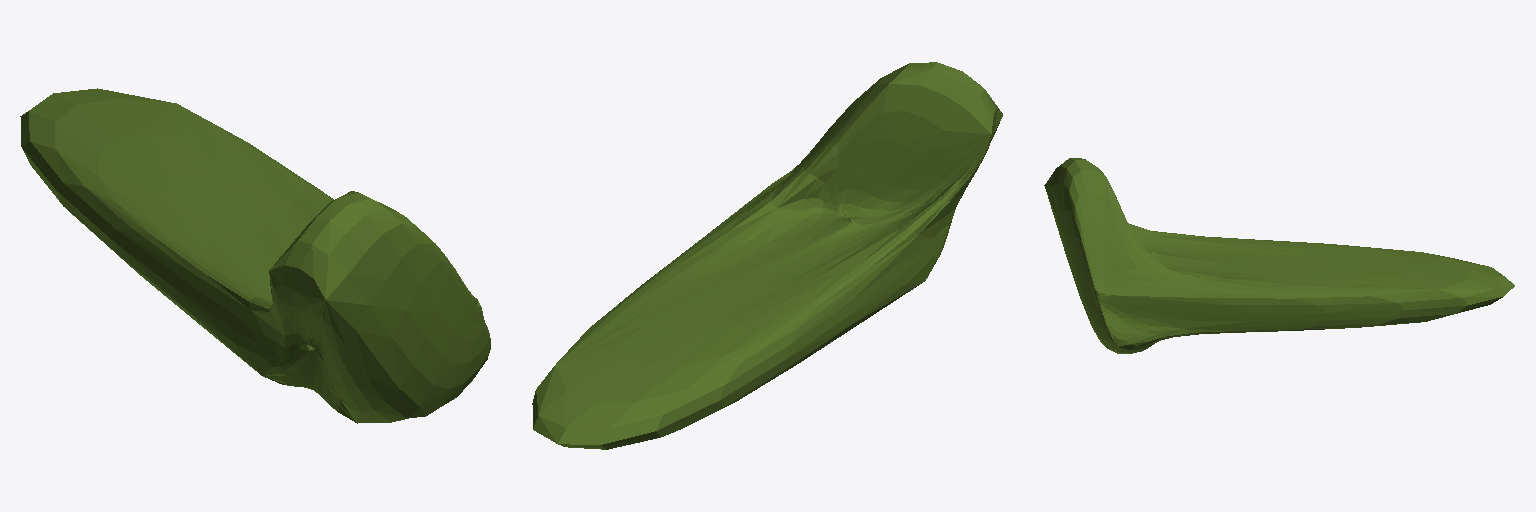
URDF robot description (blob142):

<robot name="blob142">
  <link name="random_obj_142">
    <contact>
      <lateral_friction value="1.0"/>
      <rolling_friction value="0.0"/>
      <inertia_scaling value="3.0"/>
      <contact_cfm value="0.0"/>
      <contact_erp value="1.0"/>
    </contact>
    <inertial>
      <origin rpy="0 0 0" xyz="0 0 0"/>
      <mass value="0.0717"/>
      <inertia ixx="1" ixy="0" ixz="0" iyy="1" iyz="0" izz="0"/>
    </inertial>
    <visual>
      <origin rpy="0 0 0" xyz="0 0 0"/>
      <geometry>
        <mesh filename="142.obj" scale="0.0085 0.0085 0.0085"/>
      </geometry>
      <material name="blockmat">
        <color rgba="0.38 0.48 0.21 1"/>
      </material>
    </visual>
    <collision>
      <origin rpy="0 0 0" xyz="0 0 0"/>
      <geometry>
        <mesh filename="142_coll.obj" scale="0.0085 0.0085 0.0085"/>
      </geometry>
    </collision>
  </link>
</robot>

--- What the picture shows (computed from the rendered views, not written in the file) ---
The picture shows the robot from 3 angles, left to right: view 1: azimuth 30°, elevation 25°; view 2: azimuth 150°, elevation 25°; view 3: azimuth 270°, elevation 25°; orthographic projection.
Model blob142 with 1 links and 0 joints (none), rooted at random_obj_142, posed all joints at 0.
Visible links, largest first — view 1: random_obj_142; view 2: random_obj_142; view 3: random_obj_142.
Link boxes in pixels (bbox=[...]): random_obj_142: bbox=[20, 88, 490, 423]; random_obj_142: bbox=[532, 62, 1002, 449]; random_obj_142: bbox=[1044, 158, 1514, 353].
Bounding box of the posed robot: 0.04 × 0.1107 × 0.0422 m (x, y, z).
1 mesh visuals loaded from 1 distinct referenced files (1 OBJ).
